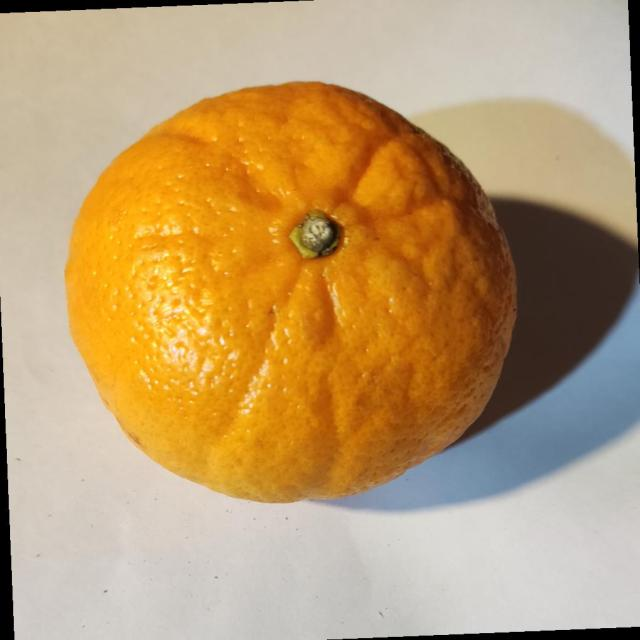fresh orange: (63, 79, 519, 504)
